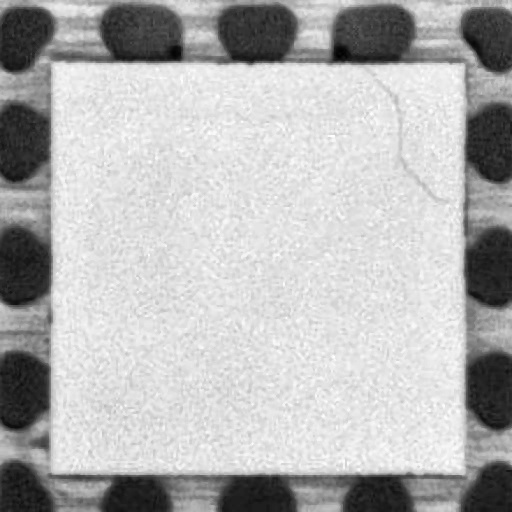DIE_CRACK: (357, 63, 452, 205)
